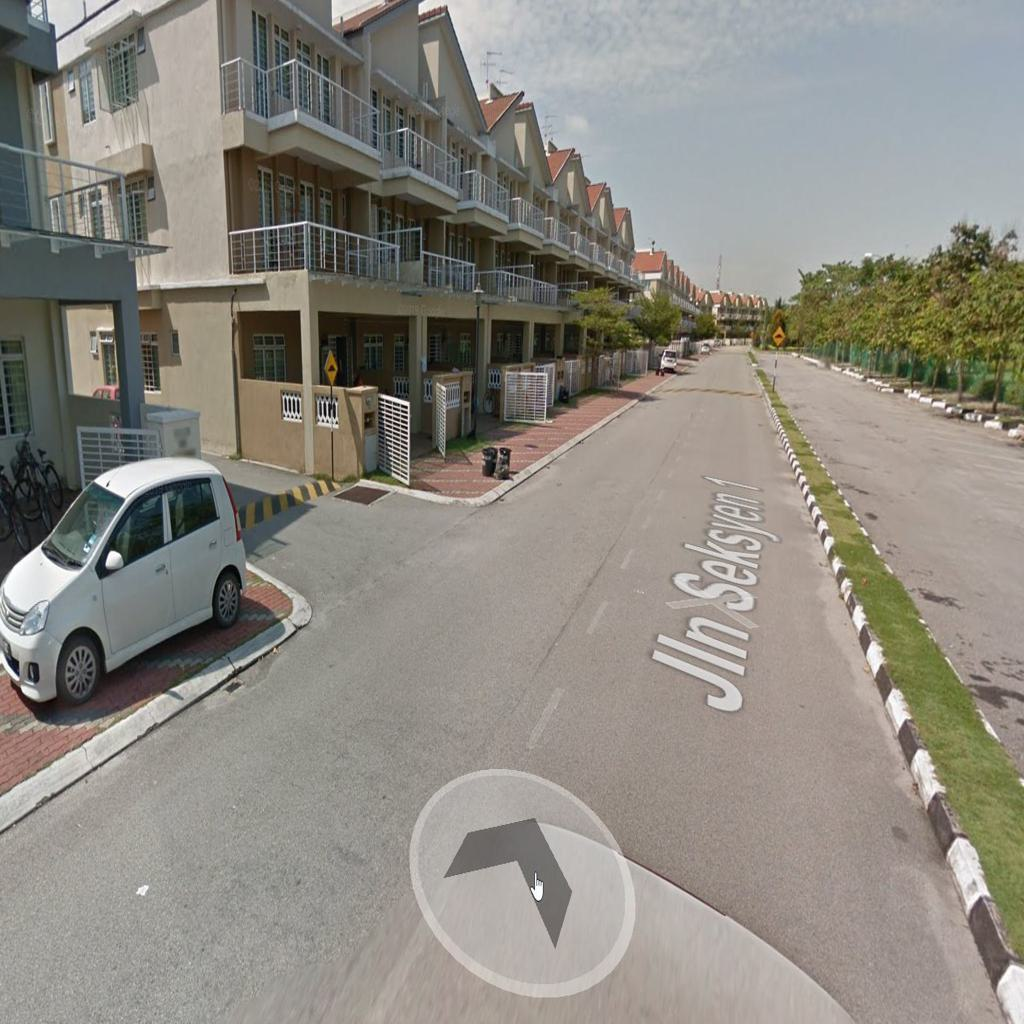Junction: (215, 434, 524, 682)
